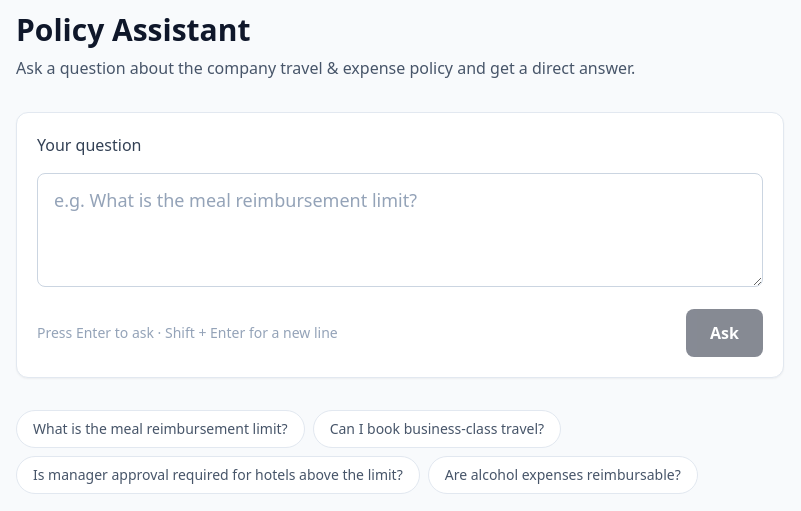
it: PolicyAssistantPage › shows a loading state while the answer is generated
The width and height of the screenshot is (801, 511).
Type "What is the meal limit?" into the text box labelled "Your question" at (400, 230), box x1=37 y1=173 x2=763 y2=287
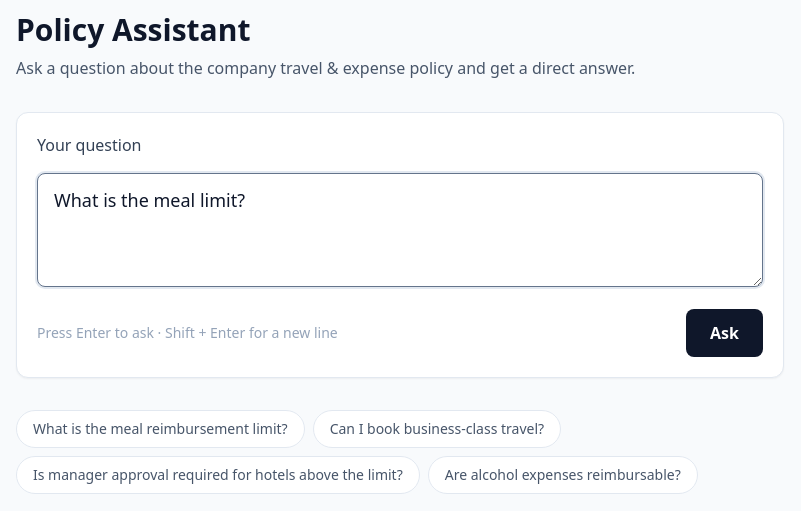
Click the button "Ask" at (725, 333), box x1=686 y1=309 x2=763 y2=357
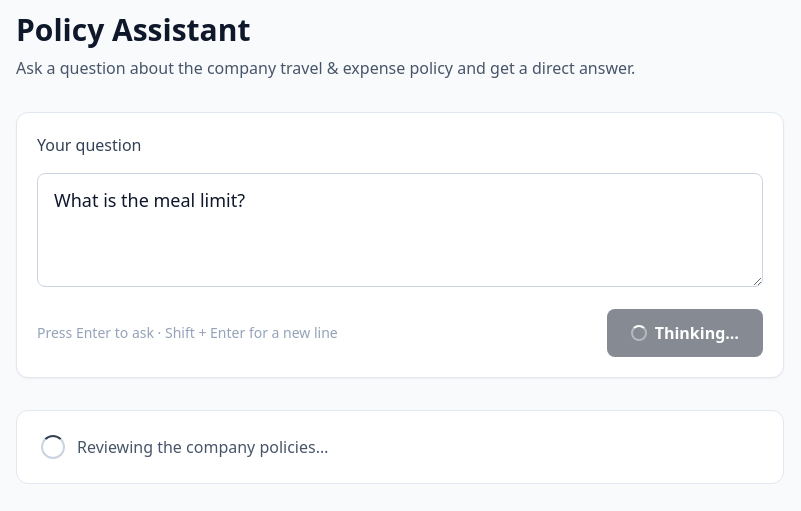
Expected: the text "Reviewing the company policies…" is shown, x1=77 y1=435 x2=328 y2=459
Expected: the button "Thinking…" is disabled, x1=607 y1=309 x2=763 y2=357
